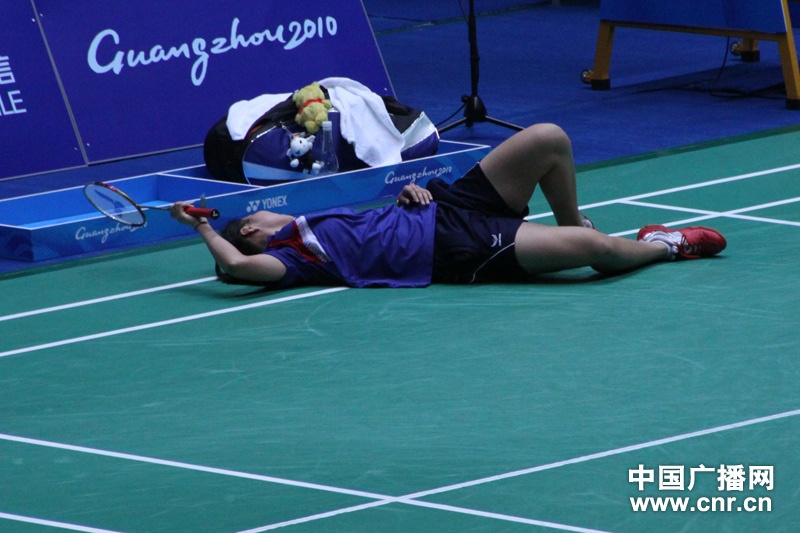falling: (179, 113, 728, 302)
